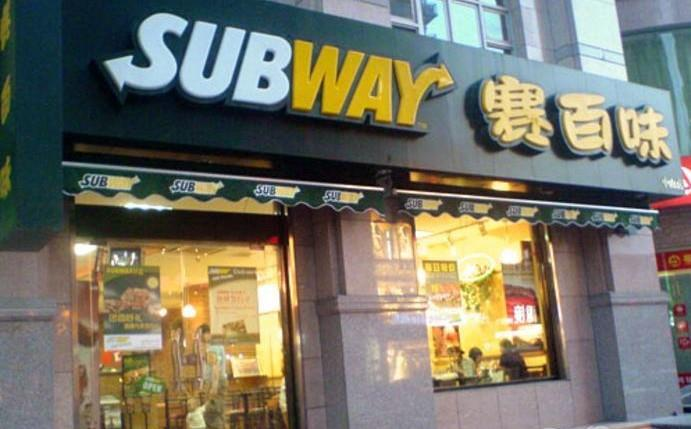subway_food: (97, 8, 459, 134)
